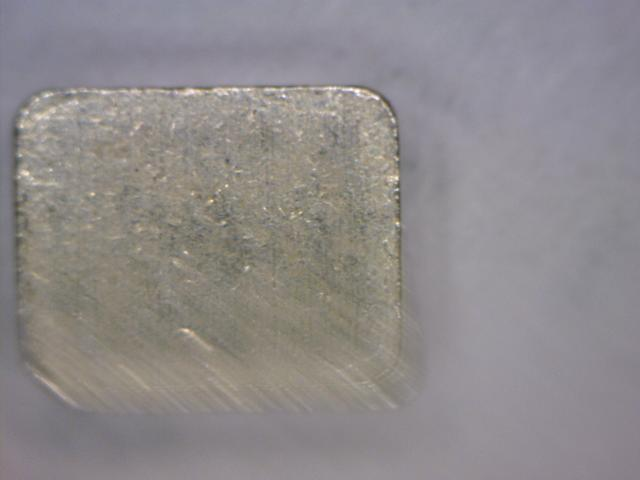ok: (15, 72, 418, 417)
